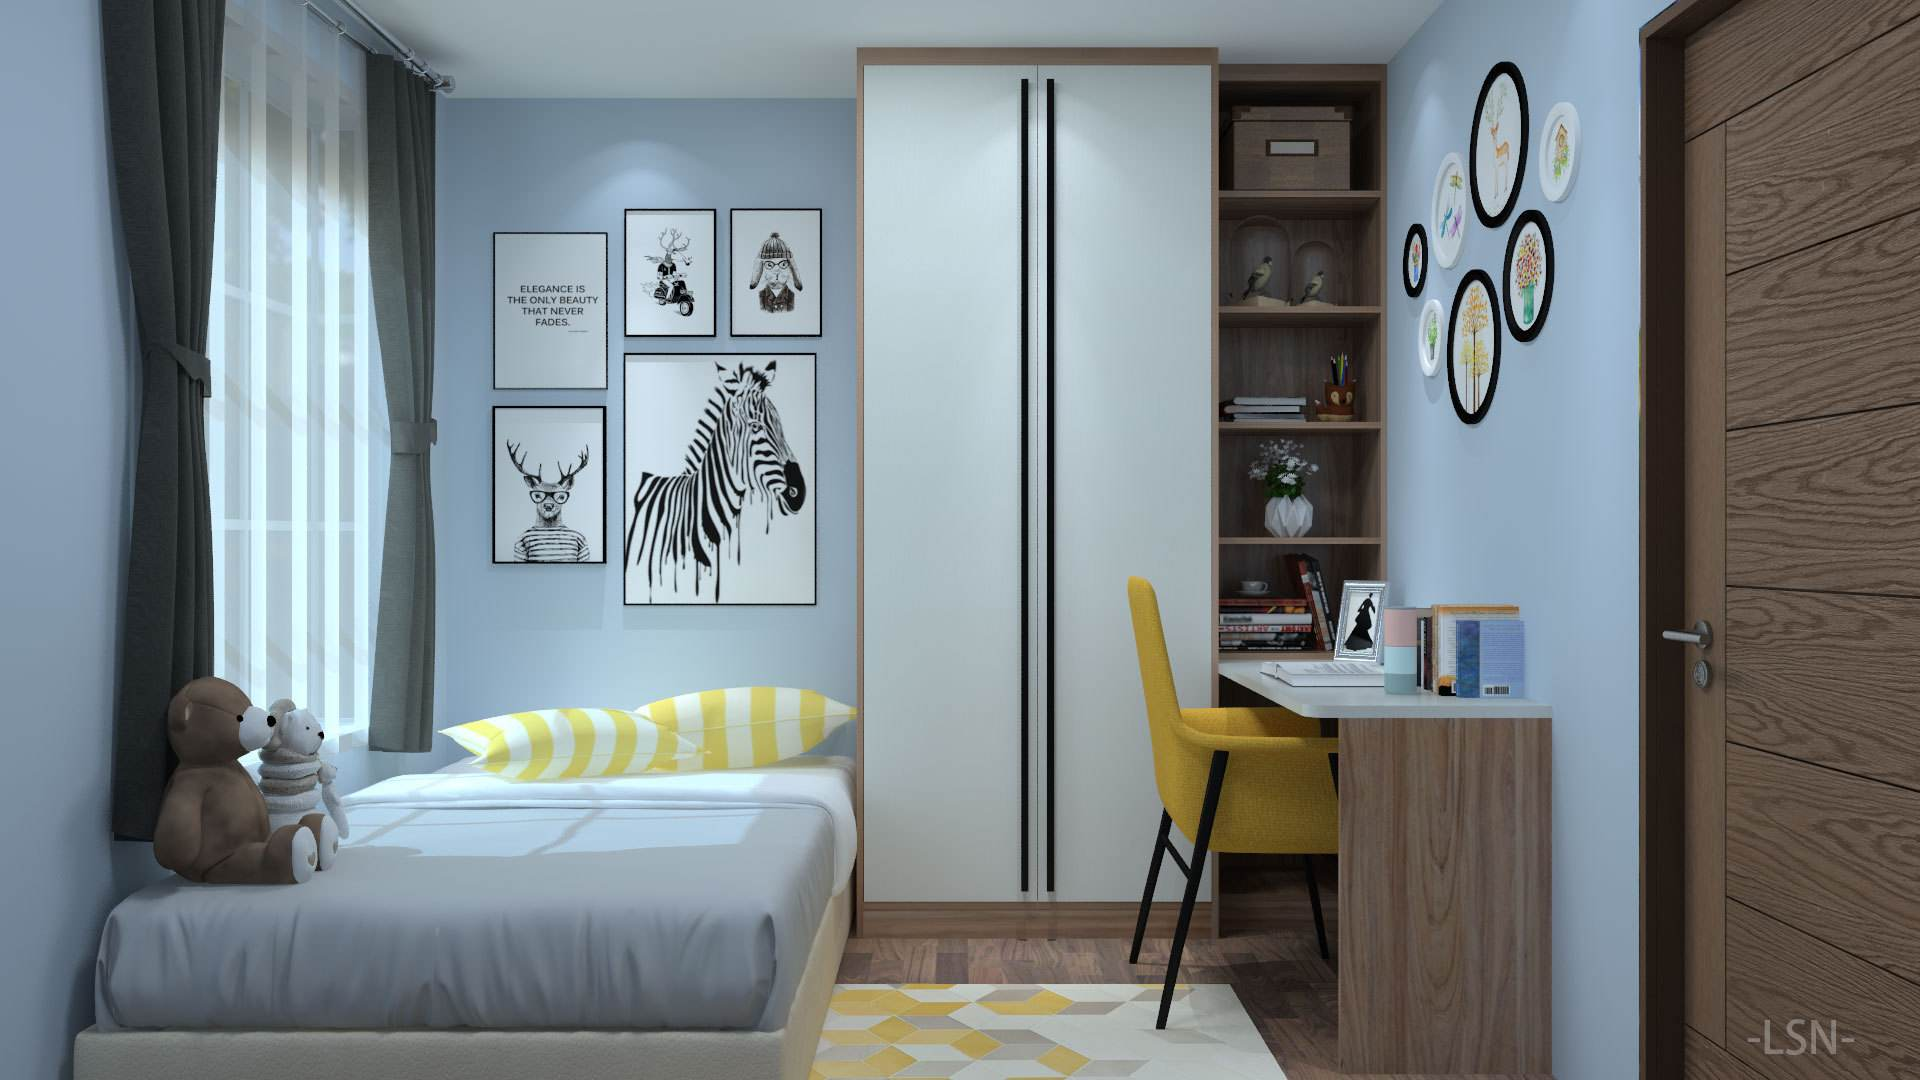床: (73, 778, 864, 1047)
枕头: (429, 698, 833, 796)
